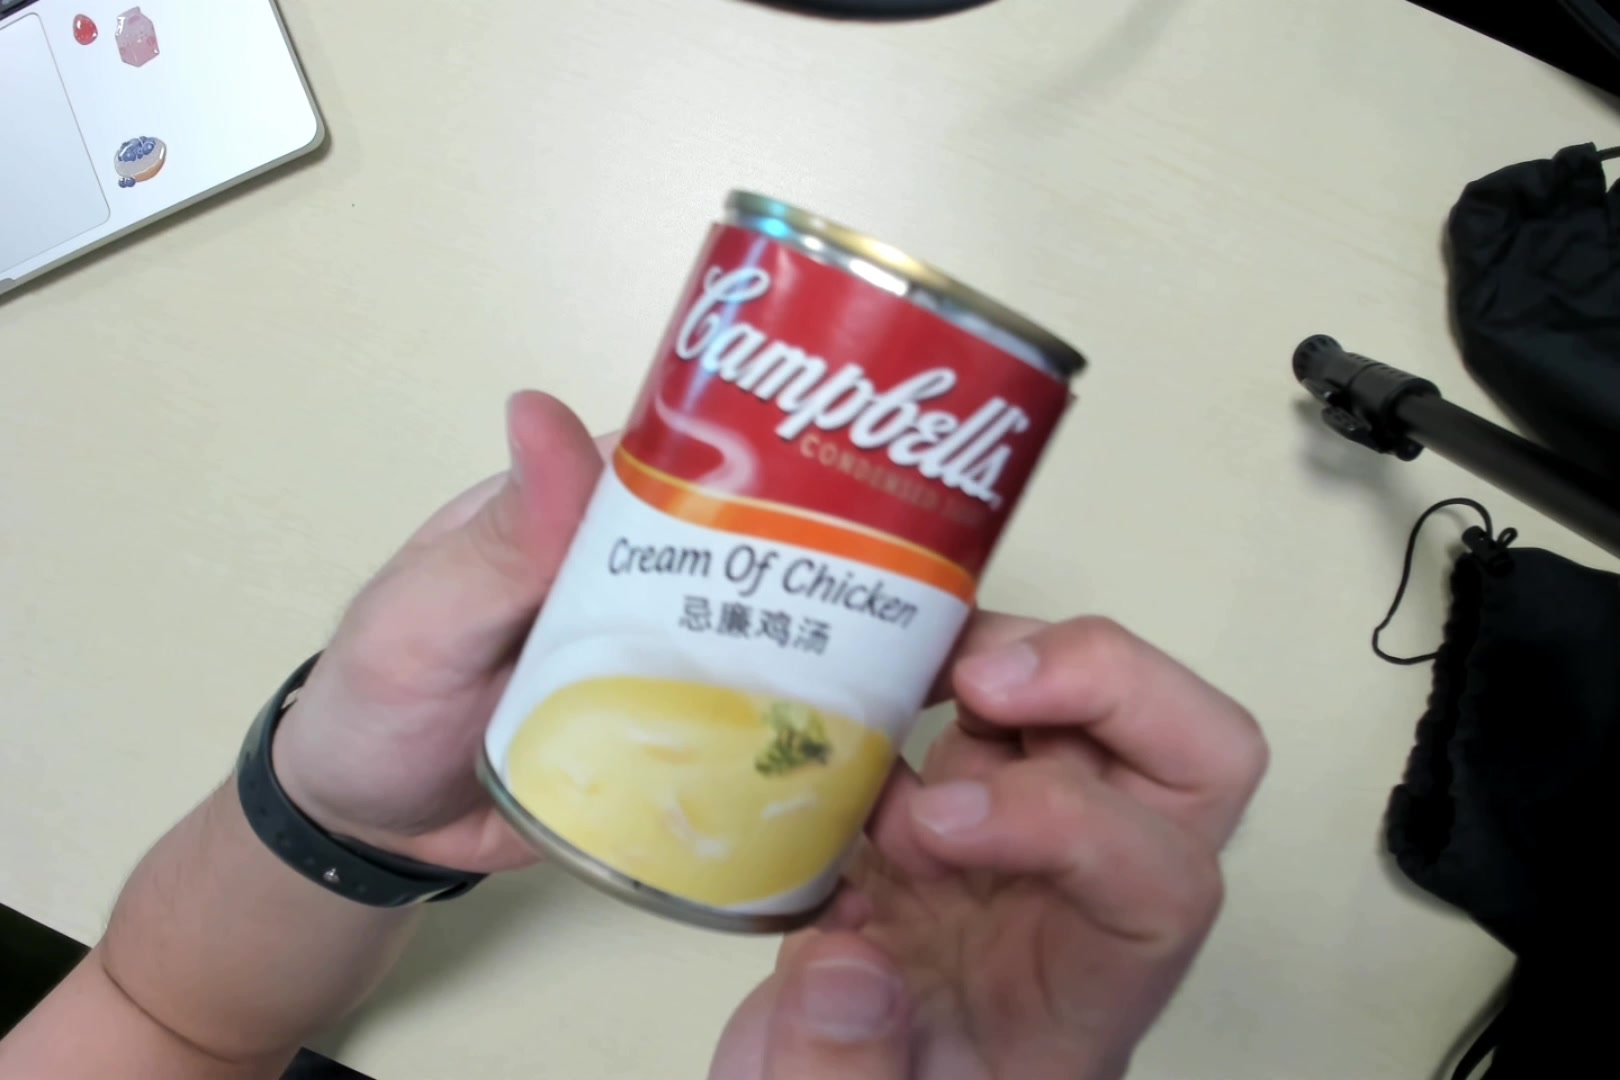CannedSoup_300-399g_Halal_NonHealthy: (493, 174, 1072, 938)
